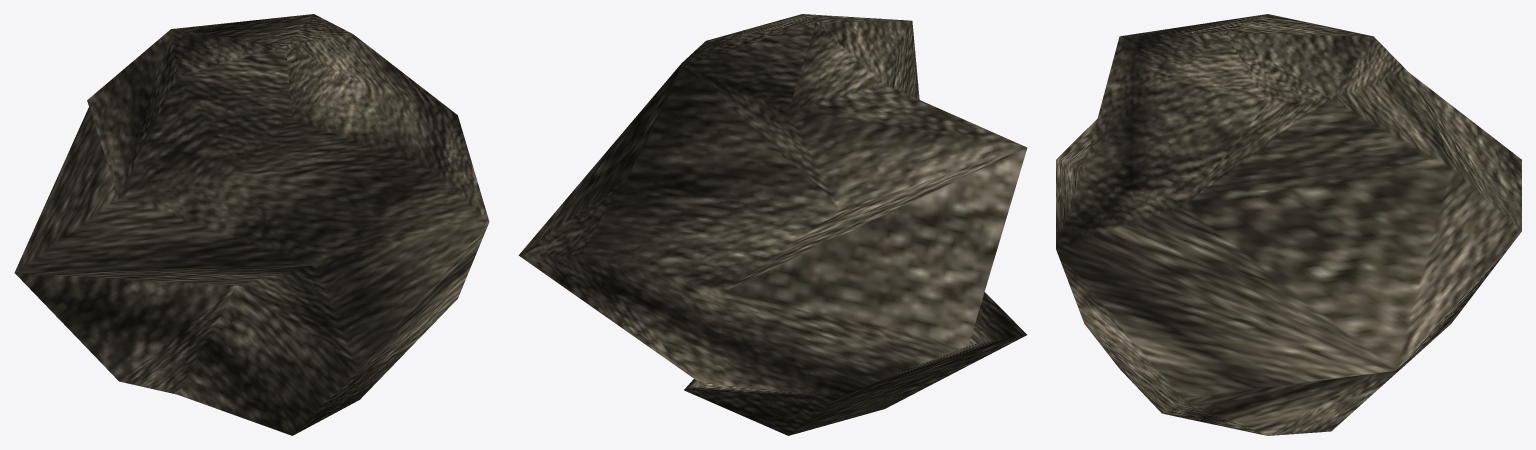
The model's file is rock-def.obj.
The picture shows the model from 3 angles, left to right: view 1: azimuth 30°, elevation 25°; view 2: azimuth 150°, elevation 25°; view 3: azimuth 270°, elevation 25°; orthographic projection. The views are drawn at different scales.
Parts seen in each view (by area): view 1: objdefault; view 2: objdefault; view 3: objdefault.
Boxes of the visible parts, box(x1,y1,x2,y2) form: objdefault: box(14, 14, 489, 435); objdefault: box(518, 14, 1027, 435); objdefault: box(1056, 14, 1521, 435).
Size of the model in its own units: 1.2 by 1 by 1.1.
1 material, 1 textured.
